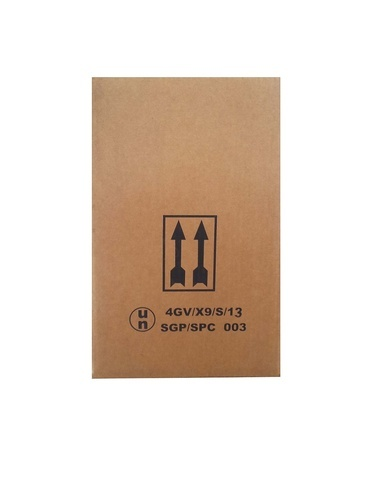Parcel: (91, 76, 281, 378)
